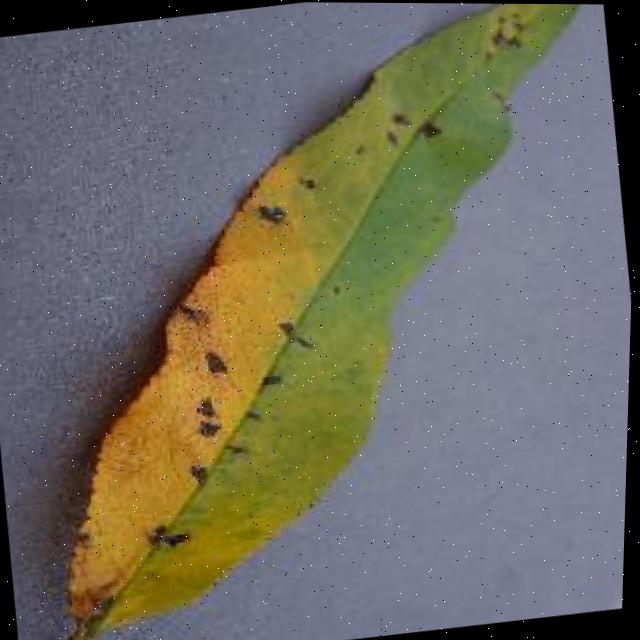Bacterial_spot: (366, 96, 466, 159), (461, 3, 551, 69), (268, 298, 338, 363), (139, 506, 205, 562), (186, 379, 234, 445), (287, 159, 336, 204), (177, 449, 224, 495), (246, 196, 297, 238), (169, 287, 214, 334), (189, 339, 234, 384), (234, 393, 283, 433), (218, 423, 260, 464), (248, 363, 300, 396)
